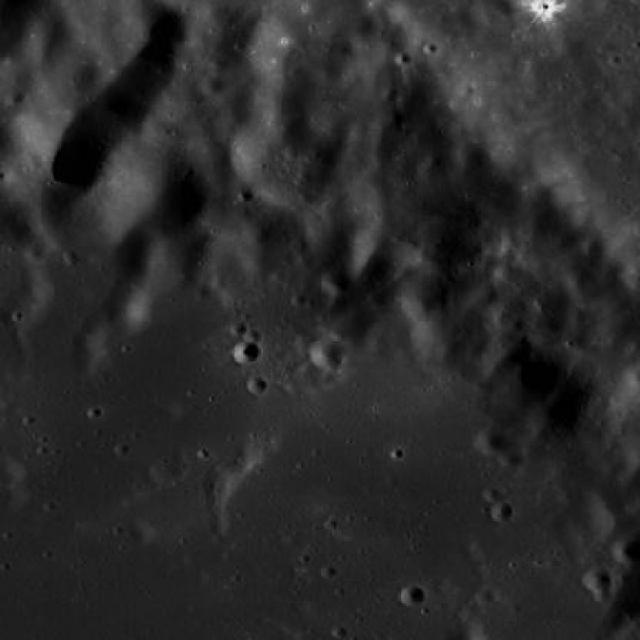crater: (15, 56, 140, 167), (53, 0, 188, 95), (97, 138, 211, 239), (230, 104, 341, 201), (248, 0, 362, 91), (5, 129, 94, 208), (183, 4, 254, 66), (386, 0, 483, 45), (252, 70, 310, 124), (410, 313, 466, 362), (398, 272, 452, 320), (352, 247, 394, 284), (29, 13, 69, 49), (310, 104, 350, 140), (310, 337, 348, 371), (472, 0, 520, 23), (453, 139, 487, 170), (148, 454, 182, 484), (470, 426, 502, 454), (322, 270, 351, 296), (611, 537, 640, 563), (230, 338, 256, 362), (581, 567, 607, 590), (196, 72, 222, 94), (396, 583, 421, 605), (494, 450, 517, 470), (364, 0, 390, 17), (582, 236, 604, 256), (488, 500, 510, 520), (243, 375, 263, 393), (206, 340, 226, 358), (3, 88, 23, 105), (22, 243, 42, 260), (380, 82, 398, 100), (590, 585, 610, 601), (472, 587, 490, 604), (240, 326, 258, 342)
